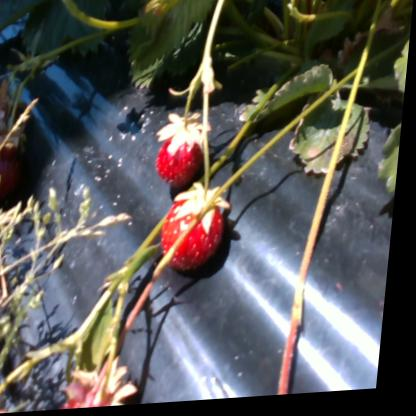ripe: (161, 192, 235, 276), (156, 130, 209, 187)
